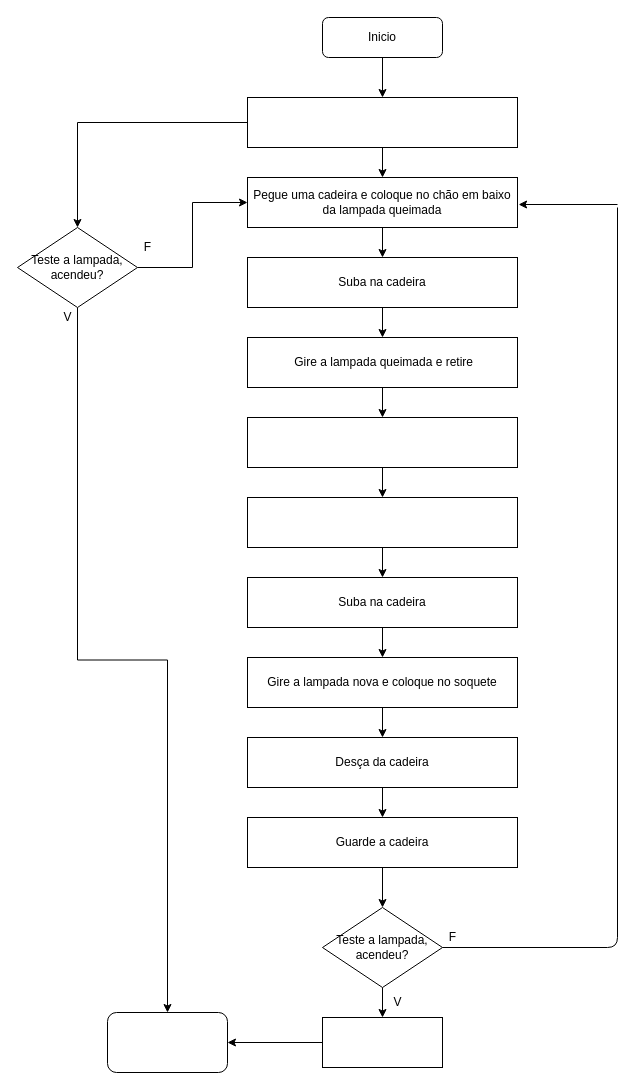
Image size: 643x1090. Some labels were removed from this diagram. The shapes that lost their labels are listed below. From the top down, each one's centre as x and y in pixels, then its label:
At pixel 382 122: "Levante do sofá".
At pixel 382 442: "Desça da cadeira e coloque a lampada queimada em cima da mesa".
At pixel 382 522: "Pegue a lampada nova".
At pixel 167 1042: "Fim".
At pixel 382 1042: "Sente no sofá".
